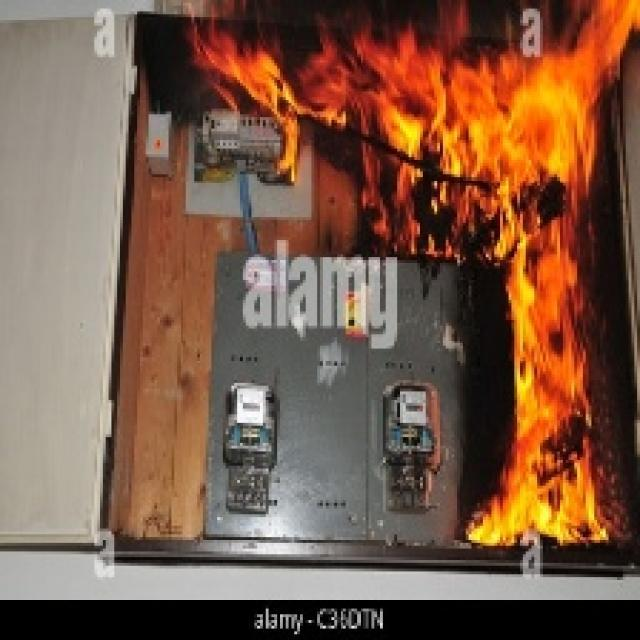Fire: (195, 0, 640, 249), (470, 258, 610, 546)
